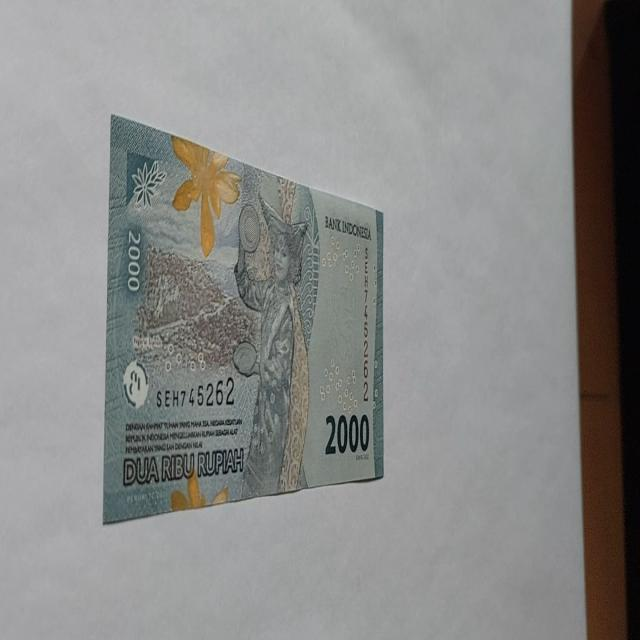dua ribu rupiah: (102, 112, 384, 524), (232, 190, 310, 500), (170, 133, 242, 259)
